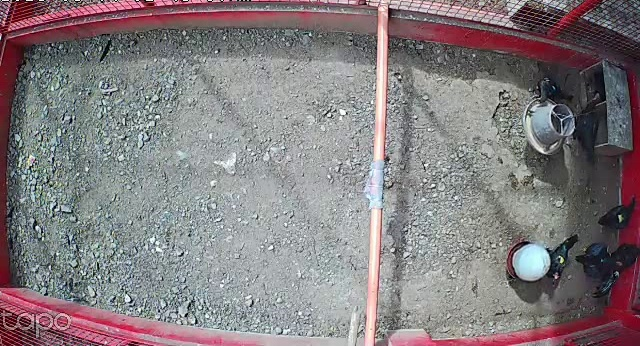Chicken: (564, 88, 605, 168), (541, 222, 585, 288), (595, 191, 636, 231), (572, 241, 616, 277), (533, 73, 574, 108)
Rooster: (595, 241, 640, 301)
Saddle_Color_Yellow: (558, 254, 565, 264)
Saddle_Color_YellowGreen: (617, 213, 626, 223)
